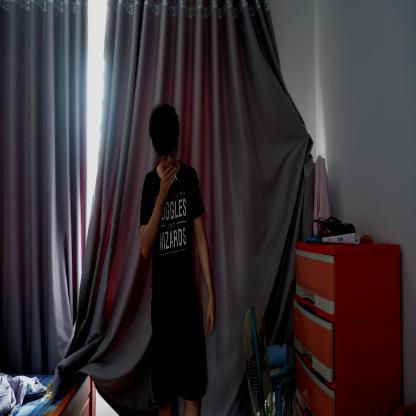cigarette: (173, 172, 178, 181)
person: (138, 102, 216, 416)
